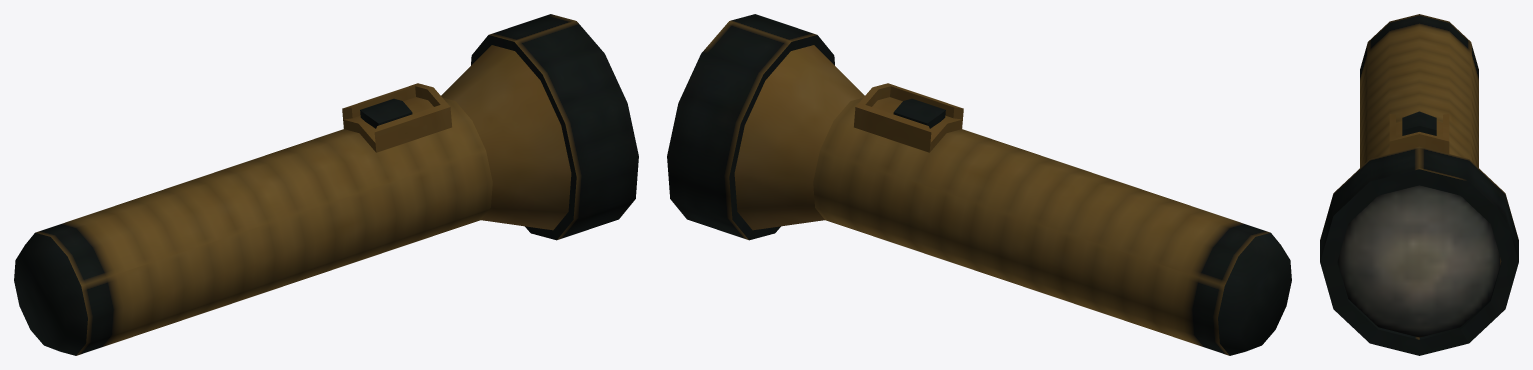
The model's file is flashlight_mp_1.obj.
The picture shows the model from 3 angles, left to right: view 1: azimuth 30°, elevation 25°; view 2: azimuth 150°, elevation 25°; view 3: azimuth 270°, elevation 25°; orthographic projection. The views are drawn at different scales.
Parts seen in each view (by area): view 1: flashlight_mp_1; view 2: flashlight_mp_1; view 3: flashlight_mp_1.
Part boxes in pixels (<box>): flashlight_mp_1: <box>14,14,638,355</box>; flashlight_mp_1: <box>667,14,1291,355</box>; flashlight_mp_1: <box>1320,14,1518,355</box>.
Bounding box in the file's own units: 7.47 × 2.61 × 2.5.
Materials: 1 (1 with a texture image).
